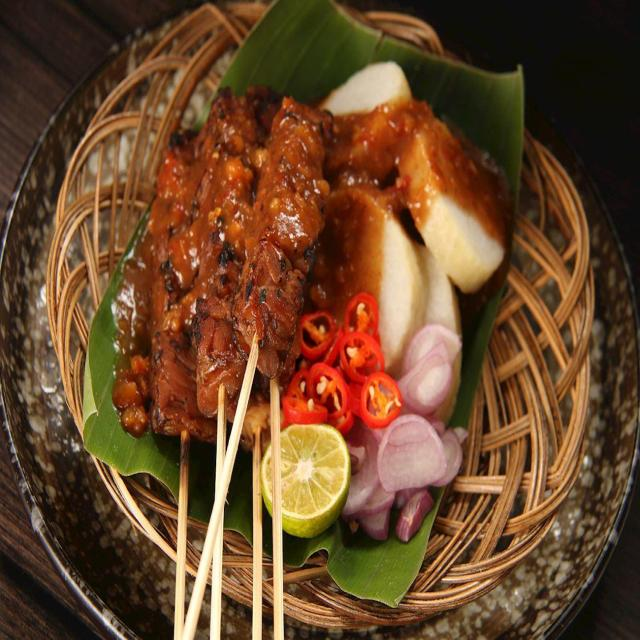Sate: (150, 66, 314, 640)
